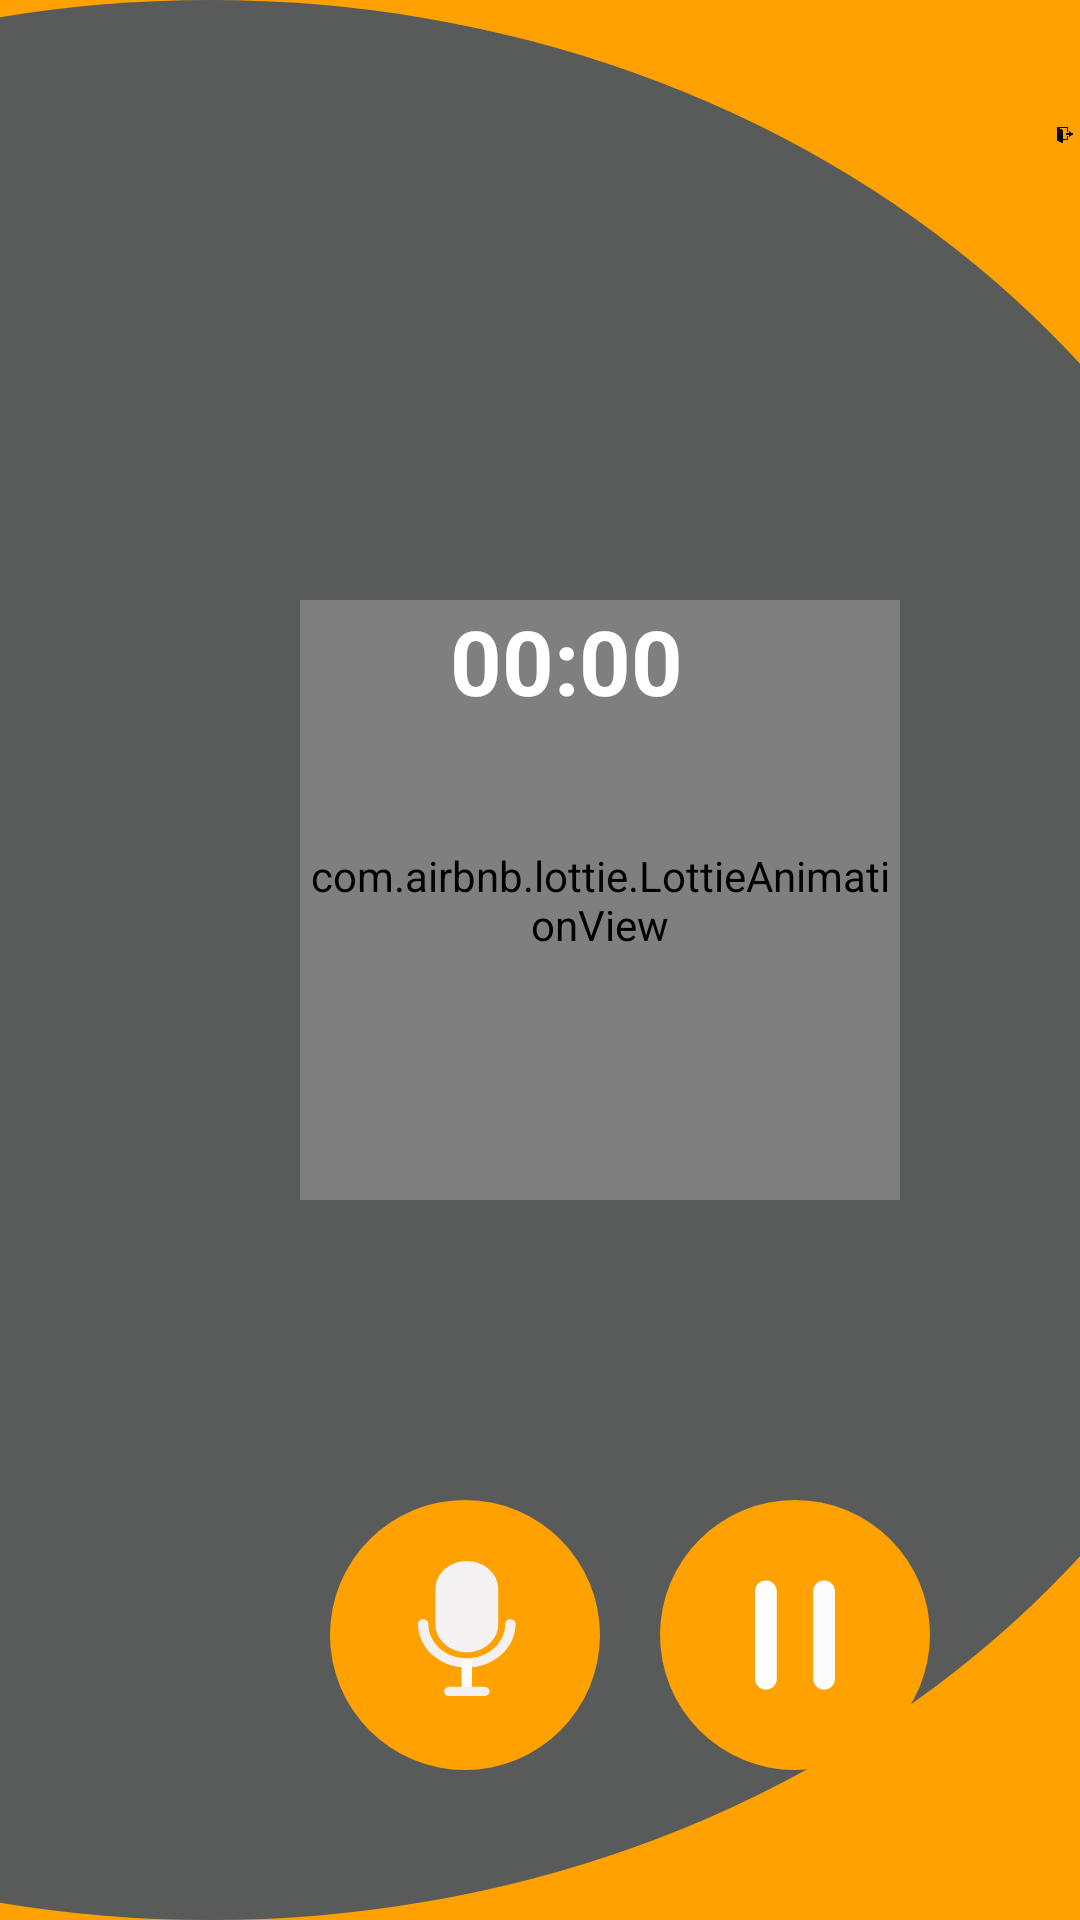

Icons on this 1080px×1920px Android screen, each with its box as BBox(x1, y1, x2, y2):
microphone: BBox(330, 1500, 600, 1770)
music player pause: BBox(660, 1500, 930, 1770)
